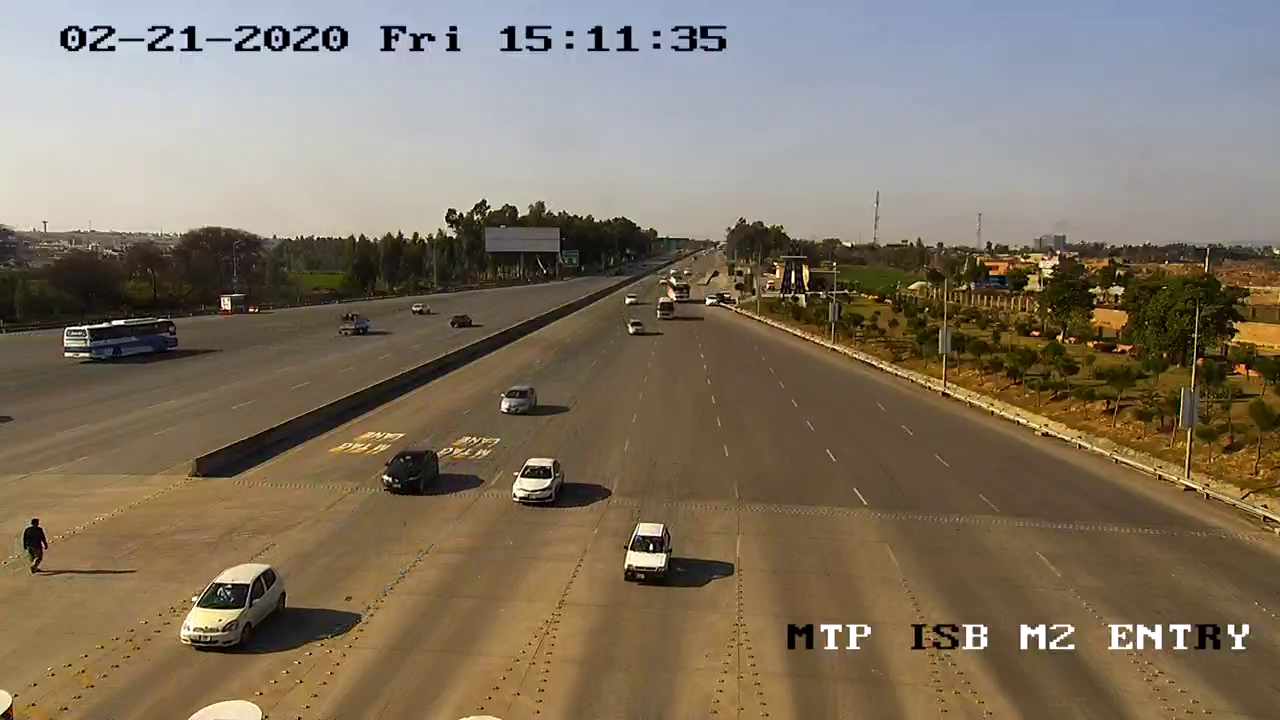f1: (174, 557, 291, 654), (612, 512, 682, 593), (503, 451, 571, 511), (377, 444, 444, 499)
